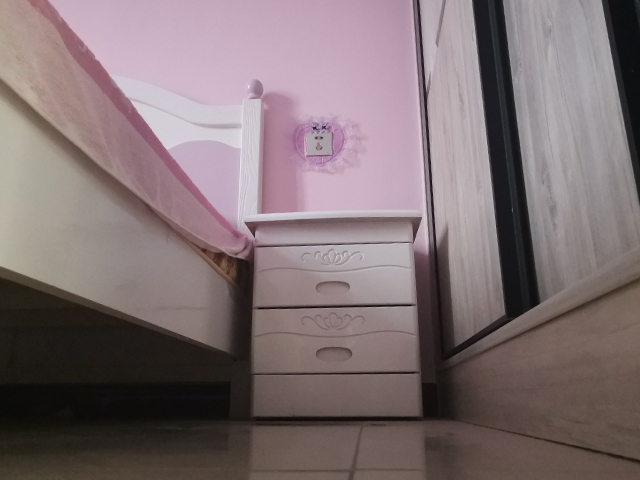bed: (1, 1, 265, 427)
cabinet: (411, 1, 640, 466), (239, 205, 425, 423)
